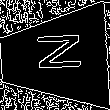N_W: (27, 36, 82, 79)
